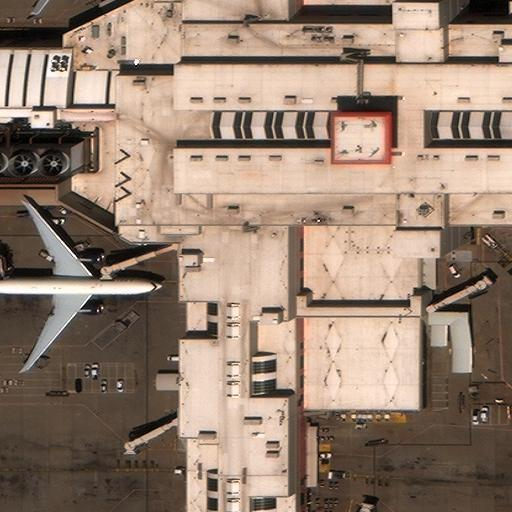Large Civil Transport: (0, 199, 166, 371)
